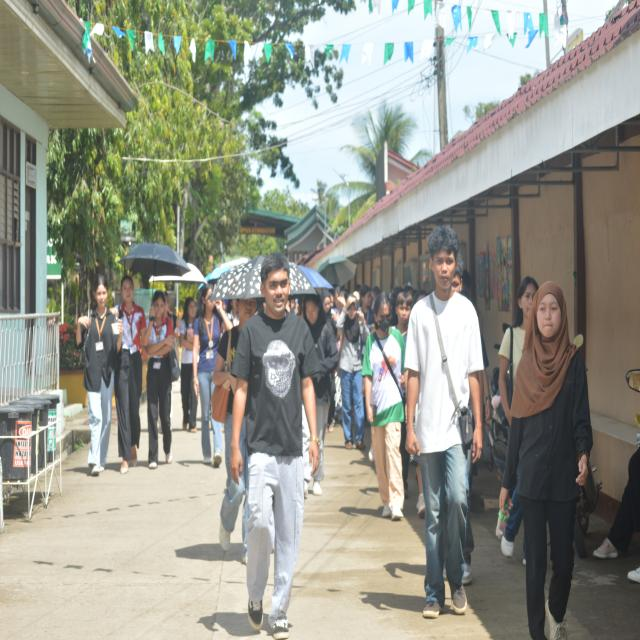person: (230, 254, 318, 639), (500, 282, 592, 639), (405, 226, 483, 618), (213, 299, 256, 551), (363, 293, 404, 520), (76, 276, 122, 475), (302, 295, 338, 496), (193, 284, 232, 467), (115, 276, 146, 473), (499, 277, 538, 425), (142, 291, 174, 468), (338, 296, 369, 449), (178, 297, 197, 432)
